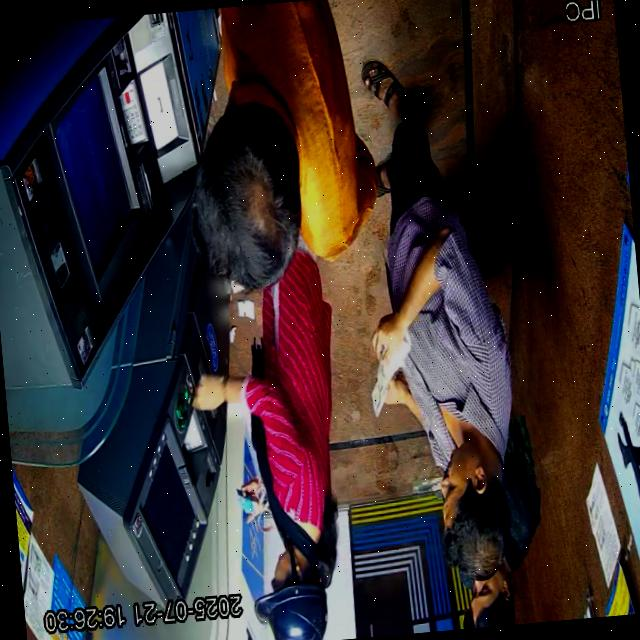helmet: (255, 545, 327, 640)
no_helmet: (190, 103, 301, 292), (439, 429, 511, 580), (470, 565, 514, 628)
